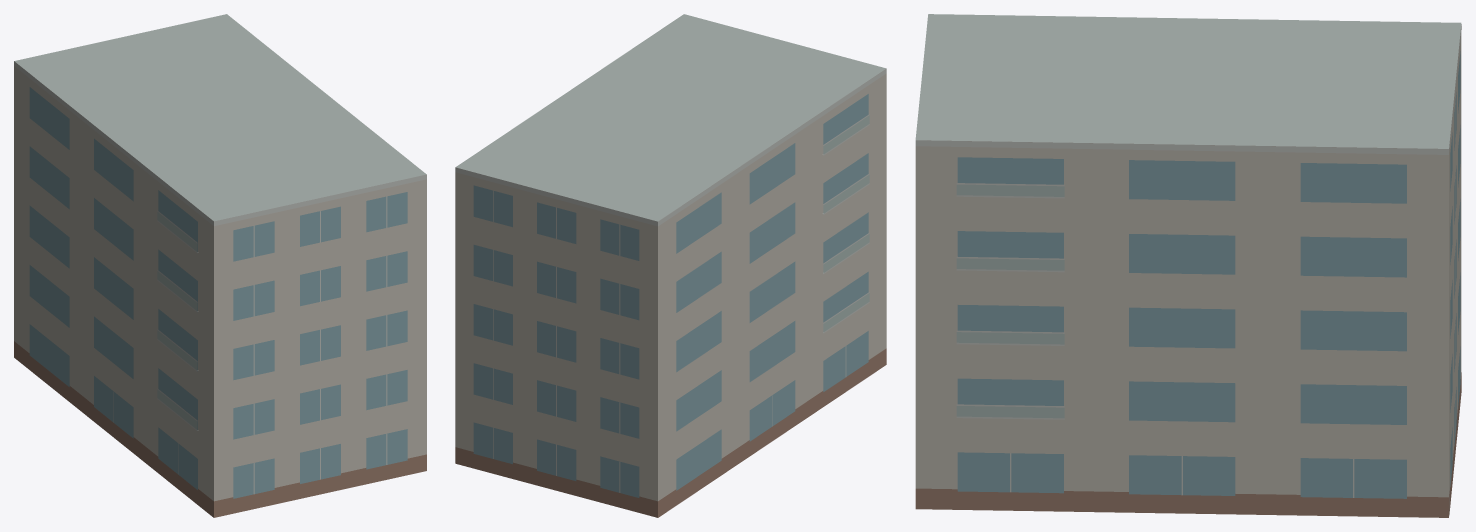
The model's file is survey-upis-32565845.glb.
The picture shows the model from 3 angles, left to right: view 1: azimuth 30°, elevation 25°; view 2: azimuth 150°, elevation 25°; view 3: azimuth 270°, elevation 25°; orthographic projection. The views are drawn at different scales.
Visible parts, largest first — view 1: survey-upis-32565845.tmp; view 2: survey-upis-32565845.tmp; view 3: survey-upis-32565845.tmp.
Part boxes in pixels (bbox=[...]): survey-upis-32565845.tmp: bbox=[14, 14, 426, 517]; survey-upis-32565845.tmp: bbox=[455, 14, 886, 517]; survey-upis-32565845.tmp: bbox=[915, 14, 1461, 517].
Bounding box in the file's own units: 11.7 × 14.9 × 20.
